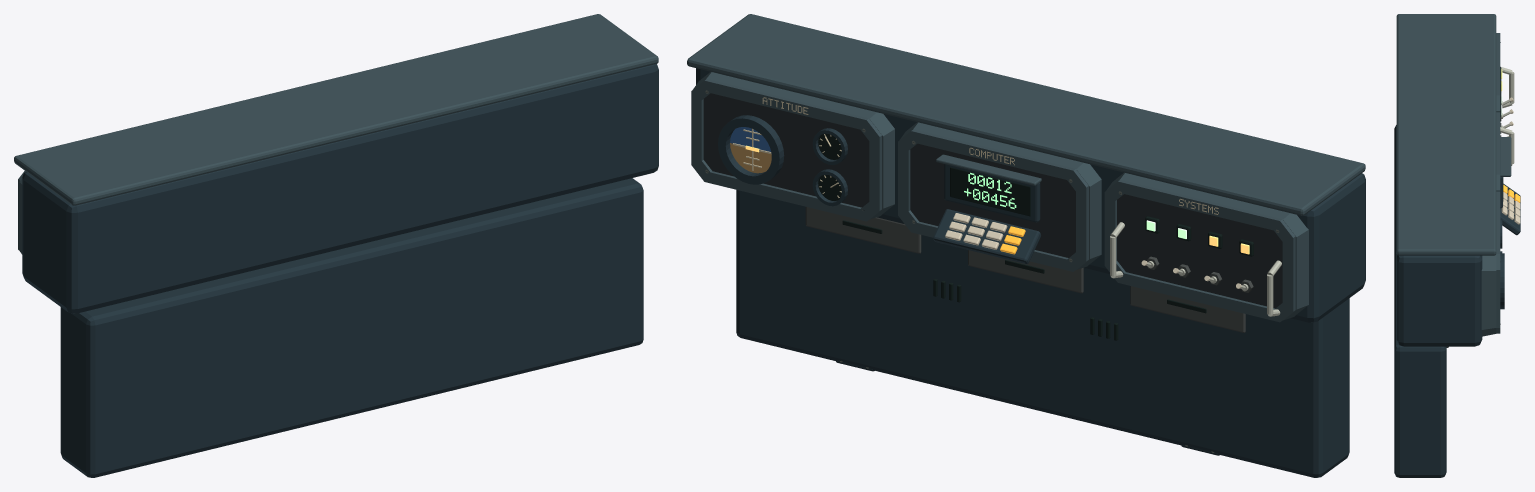
File: main_console.glb
The picture shows the model from 3 angles, left to right: view 1: azimuth 30°, elevation 25°; view 2: azimuth 150°, elevation 25°; view 3: azimuth 270°, elevation 25°; orthographic projection. The views are drawn at different scales.
Visible parts, largest first — view 1: main_console; view 2: main_console; view 3: main_console.
Part boxes in pixels (x1=…): main_console: x1=14, y1=14, x2=658, y2=477; main_console: x1=687, y1=14, x2=1365, y2=477; main_console: x1=1394, y1=14, x2=1520, y2=477.
Bounding box in the file's own units: 2.38 × 1.09 × 0.5322.
